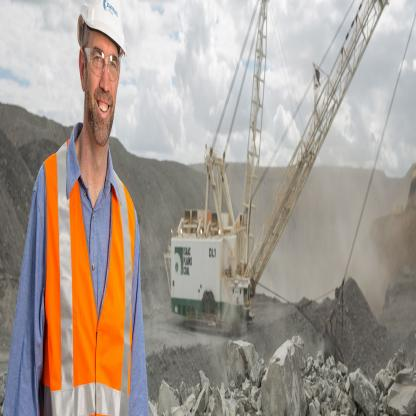person: (7, 3, 158, 415)
